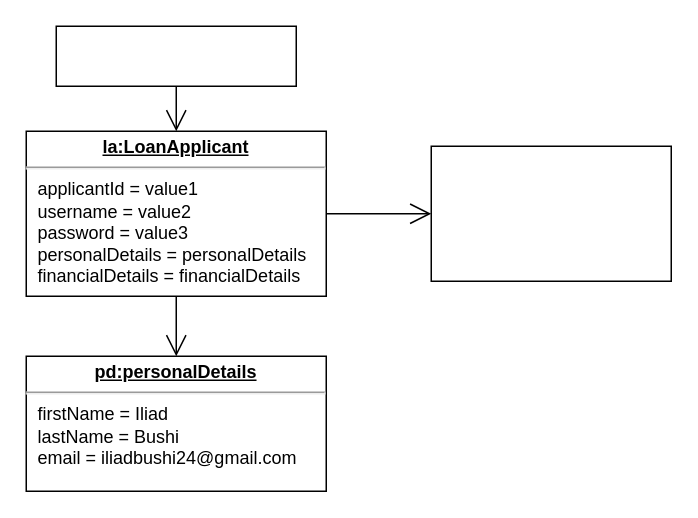
This 698x518 diagram has some shape labels left out. The centre of each missing label's shape, as x and y in pixels:
fd:FinancialDetails income = value1 cresditScore = value2 collateral = value3: the point at 550,213
n:NotificationSystem: the point at 175,55
